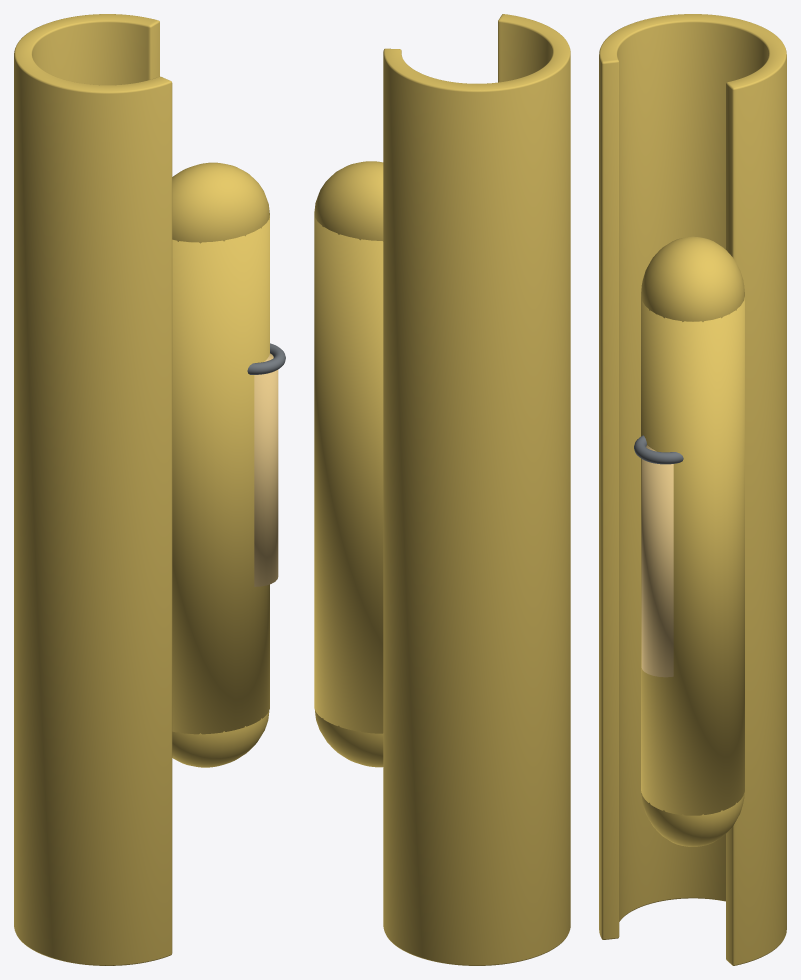
File: gas-lift-mandrel.glb
The picture shows the model from 3 angles, left to right: view 1: azimuth 30°, elevation 25°; view 2: azimuth 150°, elevation 25°; view 3: azimuth 270°, elevation 25°; orthographic projection.
Parts seen in each view (by area): view 1: Mandrel, Side pocket, Sphere, Gas lift valve, Sphere.001, Latch; view 2: Mandrel, Side pocket, Sphere, Sphere.001; view 3: Mandrel, Side pocket, Gas lift valve, Sphere, Sphere.001, Latch.
Boxes of the visible parts, x1,y1,x2,y2 form: Mandrel: (14, 14, 172, 965); Side pocket: (172, 215, 269, 734); Sphere: (172, 162, 269, 243); Gas lift valve: (254, 353, 278, 586); Sphere.001: (172, 710, 269, 767); Latch: (247, 343, 285, 374); Mandrel: (383, 14, 570, 965); Side pocket: (314, 214, 383, 733); Sphere: (314, 161, 383, 241); Sphere.001: (315, 710, 383, 767); Mandrel: (599, 14, 786, 965); Side pocket: (641, 297, 744, 815); Gas lift valve: (641, 445, 673, 677); Sphere: (641, 236, 744, 321); Sphere.001: (641, 791, 744, 846); Latch: (634, 435, 683, 464).
Bounding box in the file's own units: 1.85 × 6.4 × 1.24.
